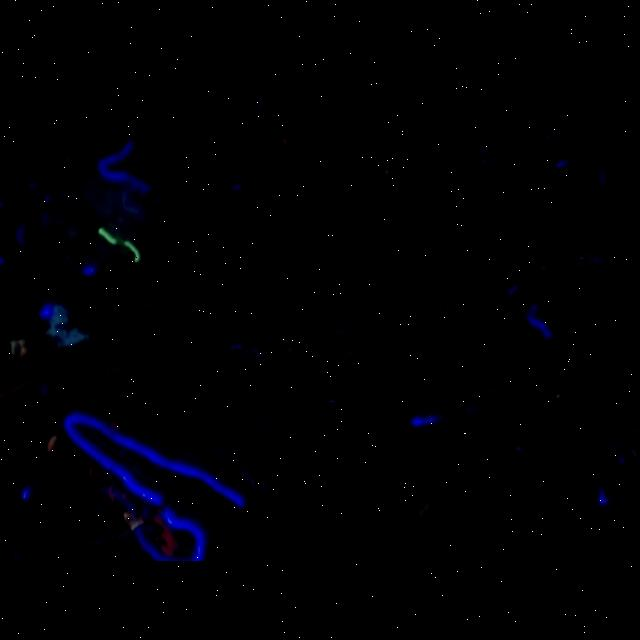Fibre: (416, 496, 441, 521)
